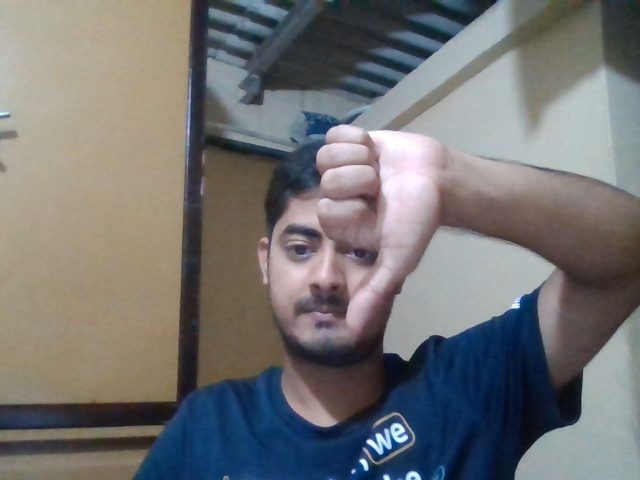ThumbsDown: (315, 124, 442, 332)
